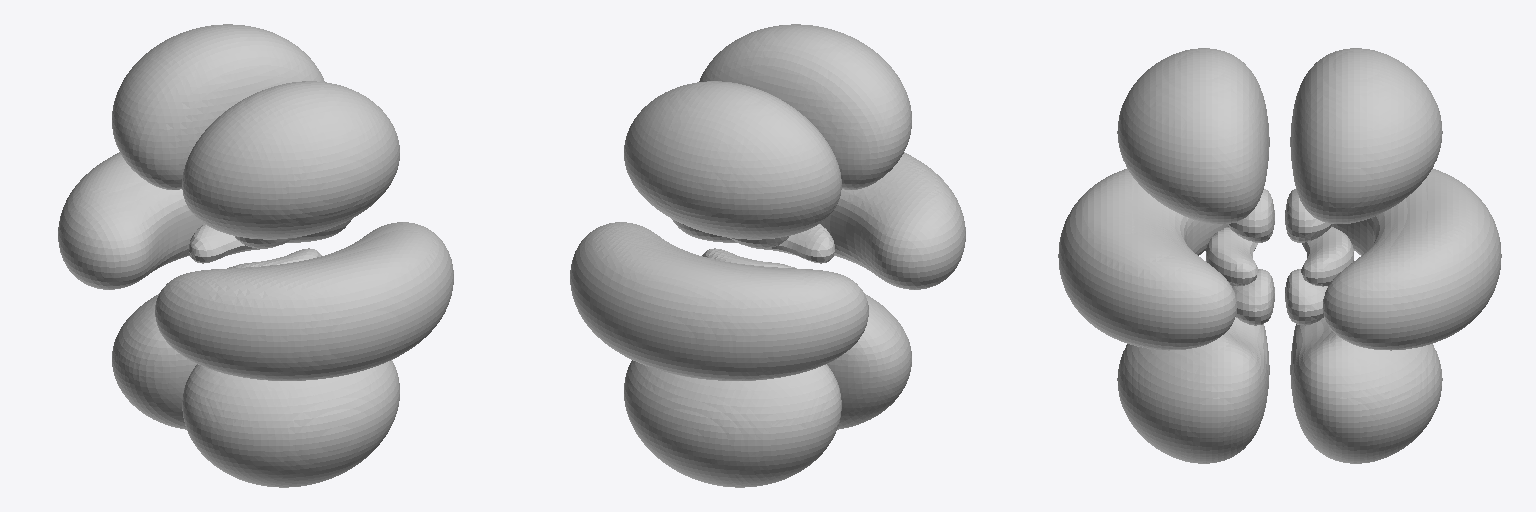
Rendered from orb_n=5_ l=3 _m=-1.obj.
The picture shows the model from 3 angles: view 1: azimuth 30°, elevation 25°; view 2: azimuth 150°, elevation 25°; view 3: azimuth 270°, elevation 25°; orthographic projection.
Visible parts, largest first — view 1: orb_n=5__l=3__m=-1; view 2: orb_n=5__l=3__m=-1; view 3: orb_n=5__l=3__m=-1.
Boxes of the visible parts, x1=… form: orb_n=5__l=3__m=-1: x1=58, y1=24, x2=453, y2=487; orb_n=5__l=3__m=-1: x1=570, y1=24, x2=965, y2=487; orb_n=5__l=3__m=-1: x1=1058, y1=48, x2=1501, y2=463.
Size of the model in its own units: 76.2 by 102 by 105.